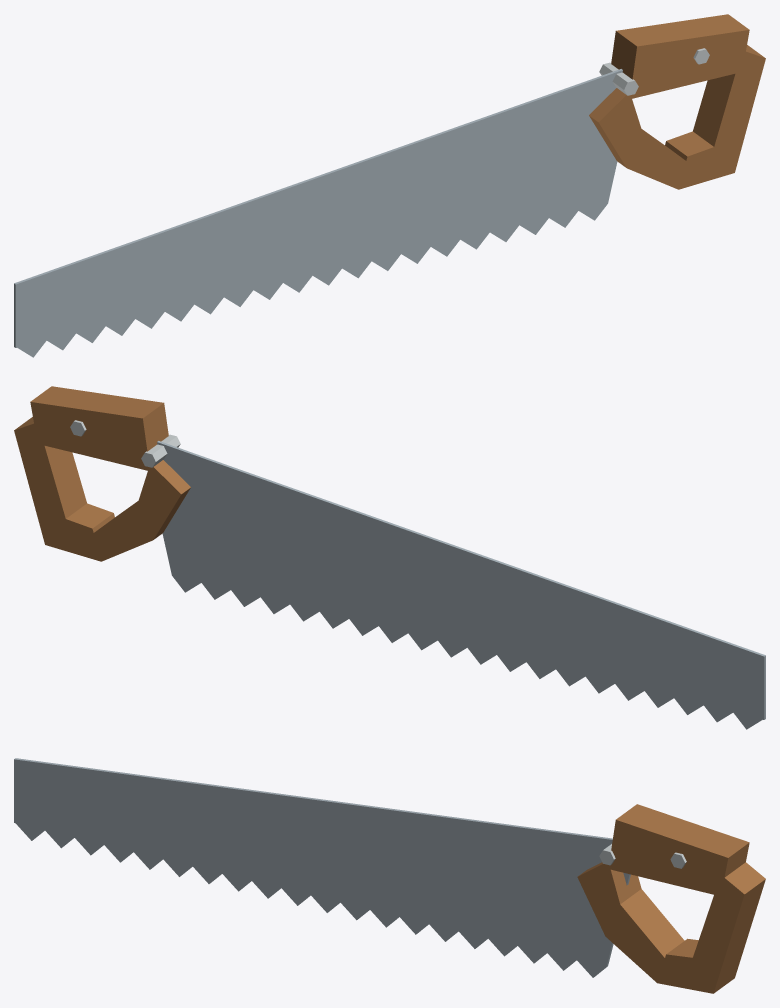
File: b06_handsaw.glb
3 views of the same model, one above another, from view 1: azimuth 30°, elevation 25°; view 2: azimuth 150°, elevation 25°; view 3: azimuth 330°, elevation 25° (orthographic).
Parts seen in each view (by area): view 1: b06_handsaw; view 2: b06_handsaw; view 3: b06_handsaw.
Boxes of the visible parts, x1=… form: b06_handsaw: x1=14, y1=14, x2=765, y2=357; b06_handsaw: x1=14, y1=386, x2=765, y2=729; b06_handsaw: x1=14, y1=758, x2=765, y2=993.
Bounding box in the file's own units: 0.5 × 0.112 × 0.029.
